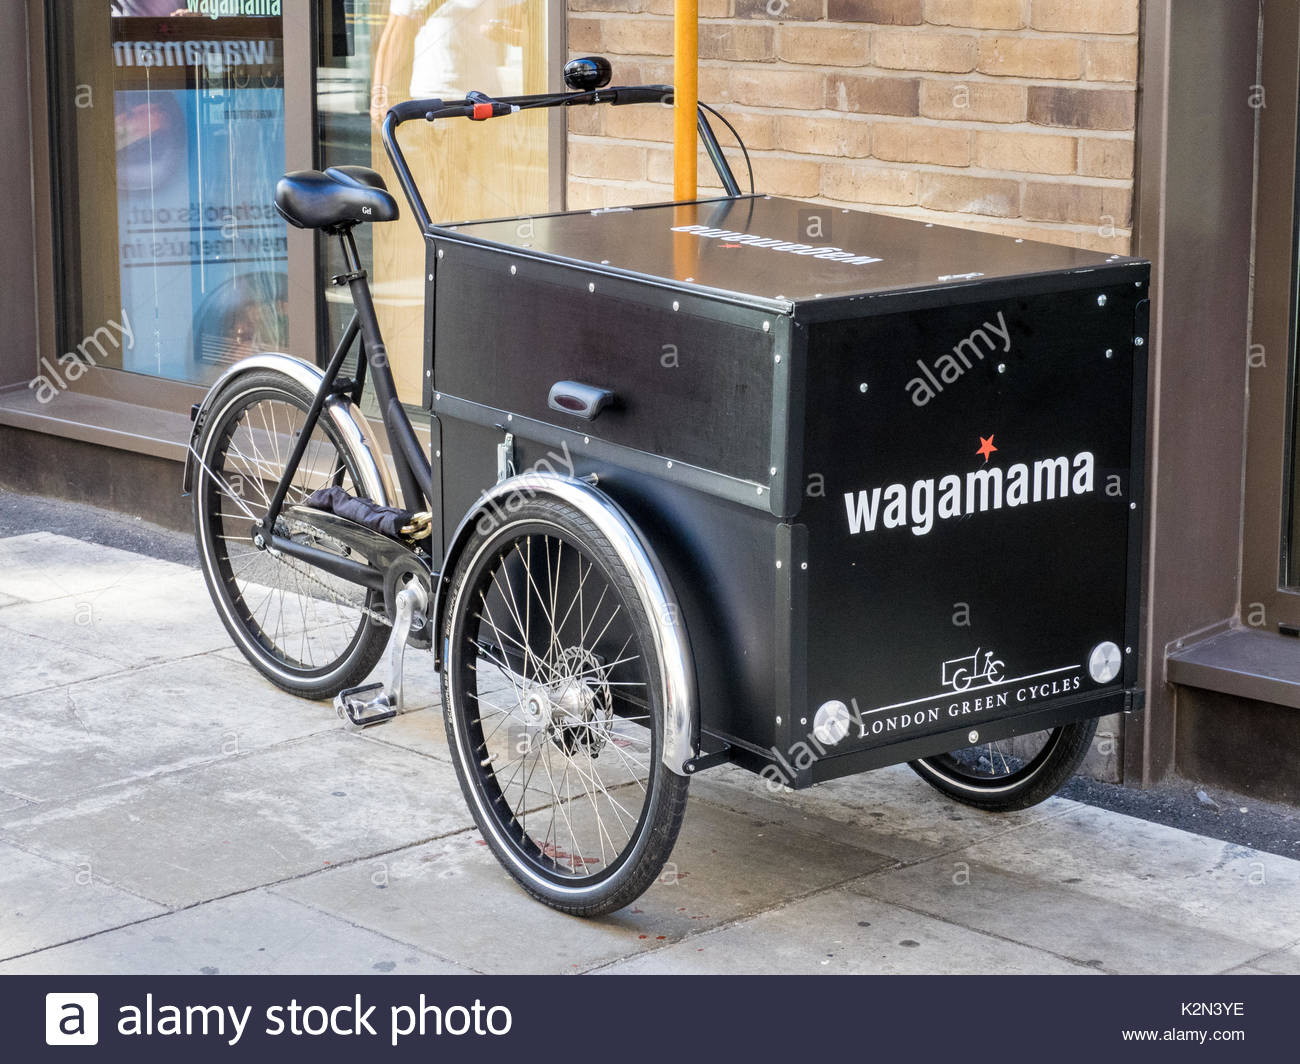handle bar: (355, 48, 784, 140)
seat: (263, 153, 403, 271)
wheel: (422, 479, 719, 947), (180, 355, 417, 711), (895, 686, 1114, 821)
